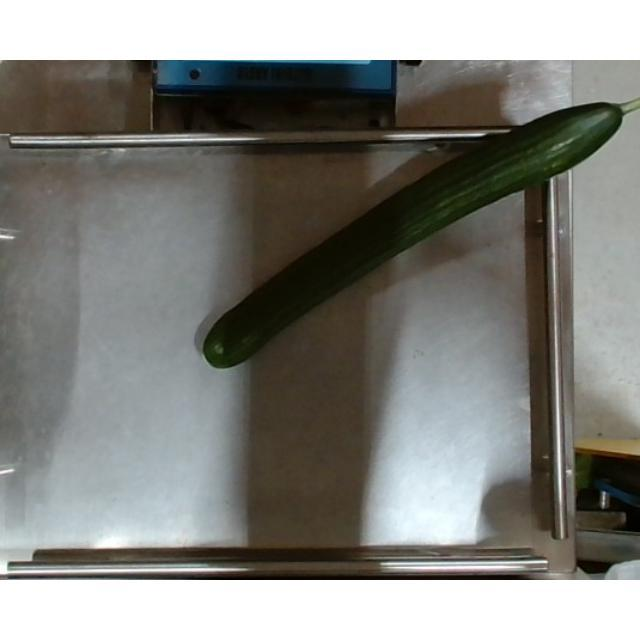cucumber: (202, 100, 630, 372)
